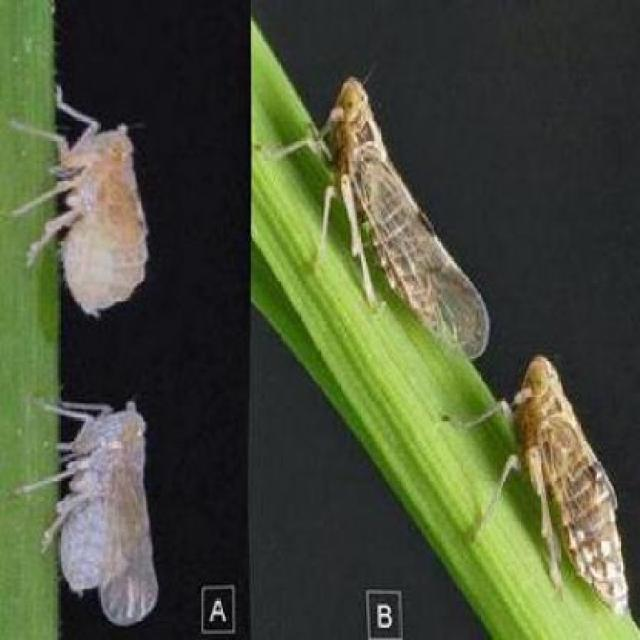brown-planthopper: (309, 65, 477, 367), (507, 351, 628, 620), (46, 382, 162, 633), (40, 106, 148, 320)
